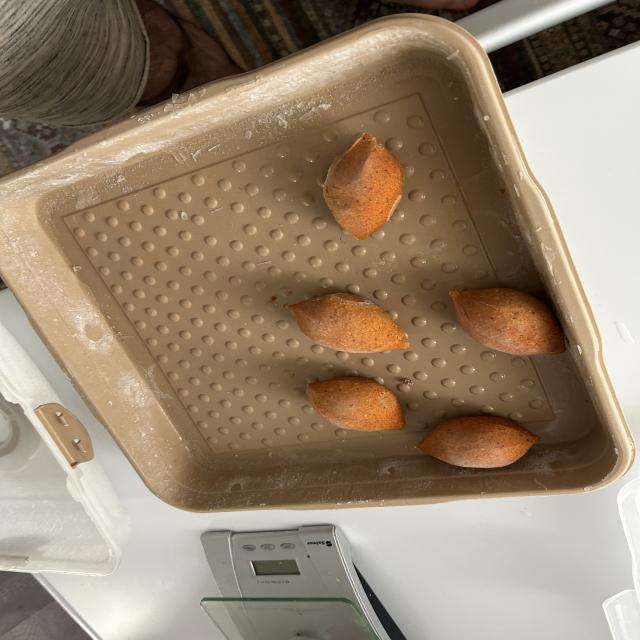kobi: (321, 133, 406, 241), (447, 284, 572, 357), (287, 294, 417, 356), (419, 416, 542, 471), (307, 384, 405, 428)
